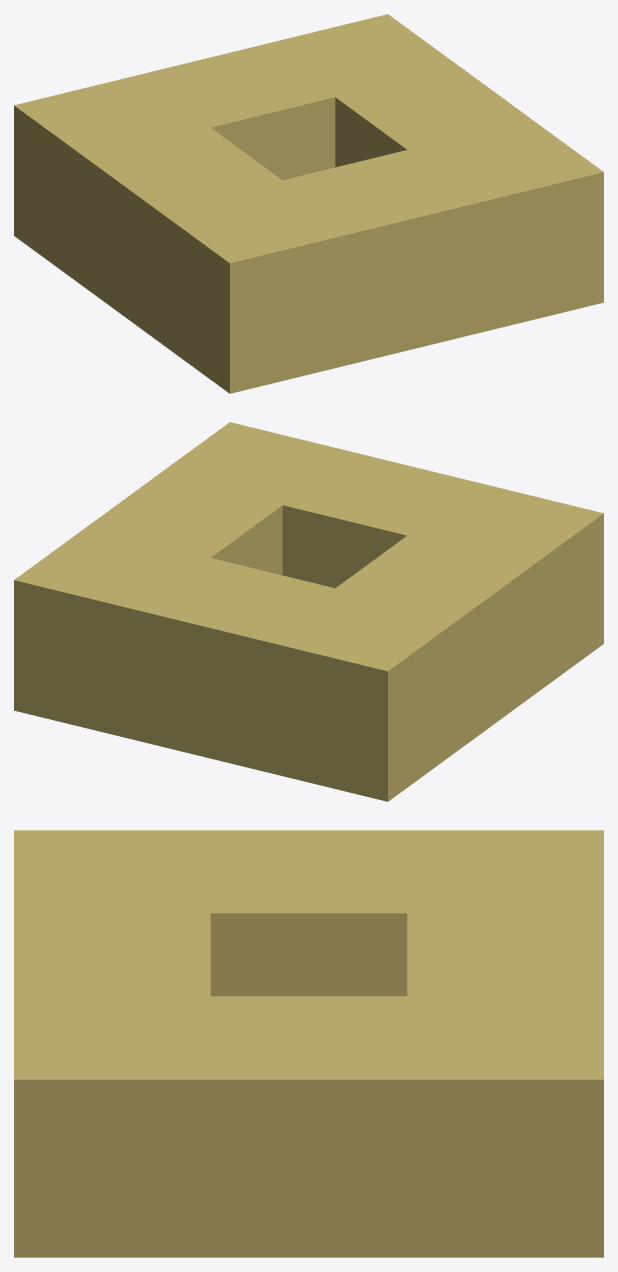
Rendered from anillo_oro_01.glb.
The picture shows the model from 3 angles, top to bottom: view 1: azimuth 30°, elevation 25°; view 2: azimuth 150°, elevation 25°; view 3: azimuth 270°, elevation 25°; orthographic projection. The views are drawn at different scales.
Parts seen in each view (by area): view 1: anillo_oro; view 2: anillo_oro; view 3: anillo_oro.
Boxes of the visible parts, left/top/right/bottom form: anillo_oro: left=14, top=14, right=603, bottom=393; anillo_oro: left=14, top=422, right=603, bottom=801; anillo_oro: left=14, top=830, right=603, bottom=1257.
Size of the model in its own units: 0.25 by 0.0833 by 0.25.
